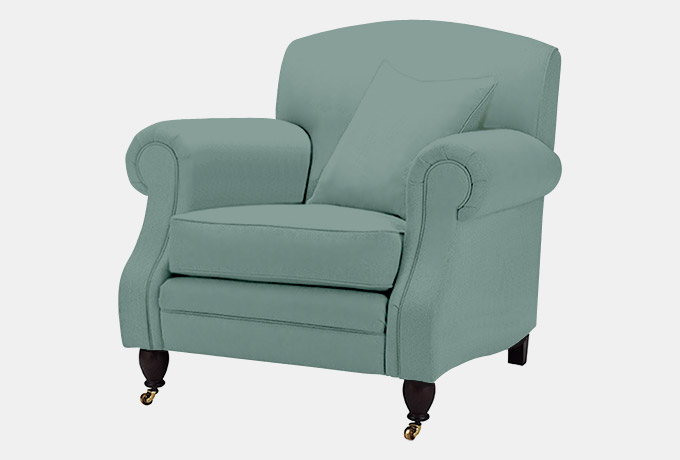chairs: (117, 21, 565, 441)
